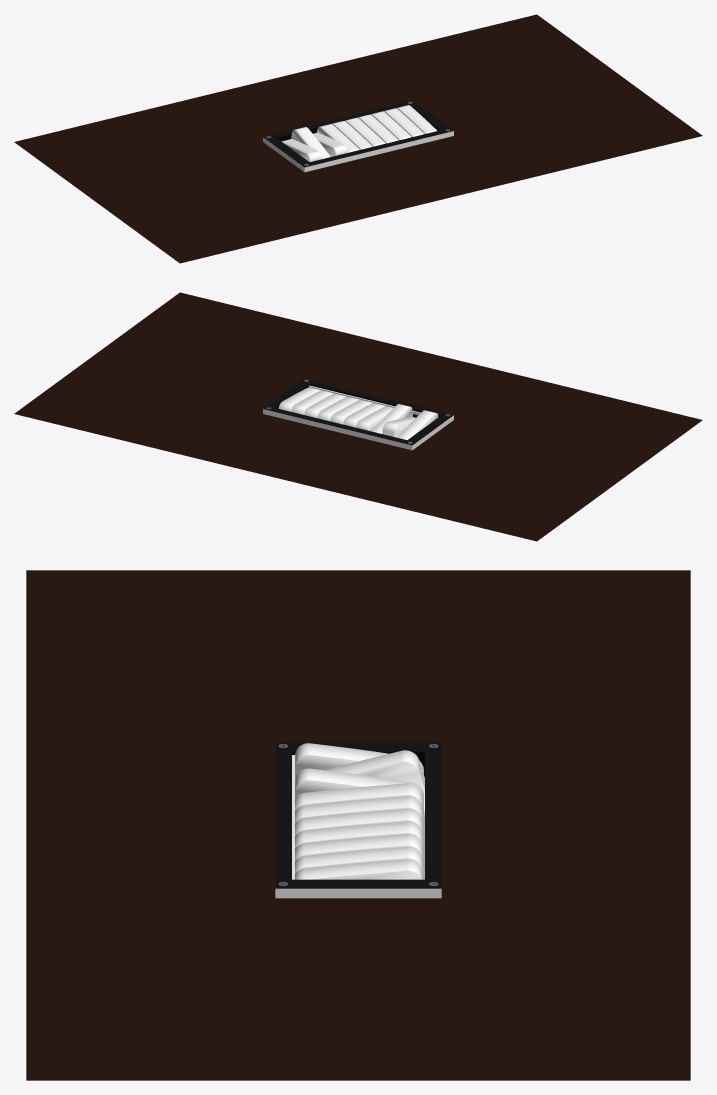
Rendered from piano_switches_8gang.glb.
The picture shows the model from 3 angles, top to bottom: view 1: azimuth 30°, elevation 25°; view 2: azimuth 150°, elevation 25°; view 3: azimuth 270°, elevation 25°; orthographic projection. The views are drawn at different scales.
Parts seen in each view (by area): view 1: Cab_Desk, Faceplate, Switch_Key_02, Switch_Key_06, Switch_Key_07, Switch_Key_10, Switch_Key_04, Switch_Key_05, Switch_Key_09, Switch_Key_08, Switch_Key_01, Switch_Key_03; view 2: Cab_Desk, Faceplate, Switch_Key_01, Switch_Key_03, Switch_Key_04, Switch_Key_02, Switch_Key_07, Switch_Key_06, Switch_Key_10, Switch_Key_08, Switch_Key_05, Switch_Key_09; view 3: Cab_Desk, Faceplate, Switch_Key_10, Switch_Key_02, Switch_Key_06, Switch_Key_04, Switch_Key_07, Switch_Key_05, Switch_Key_08, Switch_Key_09, Switch_Key_03, Switch_Key_01.
Boxes of the visible parts, x1=… form: Cab_Desk: x1=14, y1=14, x2=702, y2=263; Faceplate: x1=263, y1=100, x2=453, y2=172; Switch_Key_02: x1=291, y1=127, x2=330, y2=158; Switch_Key_06: x1=345, y1=117, x2=385, y2=146; Switch_Key_07: x1=357, y1=114, x2=398, y2=143; Switch_Key_10: x1=396, y1=105, x2=436, y2=133; Switch_Key_04: x1=317, y1=124, x2=359, y2=152; Switch_Key_05: x1=332, y1=121, x2=372, y2=149; Switch_Key_09: x1=383, y1=108, x2=423, y2=137; Switch_Key_08: x1=370, y1=111, x2=410, y2=140; Switch_Key_01: x1=281, y1=139, x2=321, y2=161; Switch_Key_03: x1=313, y1=132, x2=347, y2=156; Cab_Desk: x1=14, y1=292, x2=702, y2=541; Faceplate: x1=263, y1=378, x2=453, y2=450; Switch_Key_01: x1=397, y1=410, x2=438, y2=439; Switch_Key_03: x1=371, y1=404, x2=412, y2=433; Switch_Key_04: x1=356, y1=406, x2=393, y2=431; Switch_Key_02: x1=382, y1=416, x2=415, y2=437; Switch_Key_07: x1=317, y1=396, x2=359, y2=421; Switch_Key_06: x1=330, y1=400, x2=372, y2=424; Switch_Key_10: x1=278, y1=387, x2=320, y2=411; Switch_Key_08: x1=304, y1=393, x2=346, y2=417; Switch_Key_05: x1=343, y1=403, x2=385, y2=427; Switch_Key_09: x1=291, y1=390, x2=333, y2=414; Cab_Desk: x1=26, y1=570, x2=690, y2=1080; Faceplate: x1=275, y1=742, x2=441, y2=898; Switch_Key_10: x1=295, y1=859, x2=423, y2=879; Switch_Key_02: x1=325, y1=750, x2=424, y2=815; Switch_Key_06: x1=295, y1=808, x2=424, y2=853; Switch_Key_04: x1=295, y1=783, x2=424, y2=828; Switch_Key_07: x1=295, y1=821, x2=424, y2=865; Switch_Key_05: x1=295, y1=796, x2=424, y2=840; Switch_Key_08: x1=295, y1=834, x2=424, y2=878; Switch_Key_09: x1=295, y1=846, x2=424, y2=879; Switch_Key_03: x1=295, y1=768, x2=423, y2=806; Switch_Key_01: x1=295, y1=743, x2=423, y2=779.
Size of the model in its own units: 0.3121 by 0.0372 by 0.1716.
